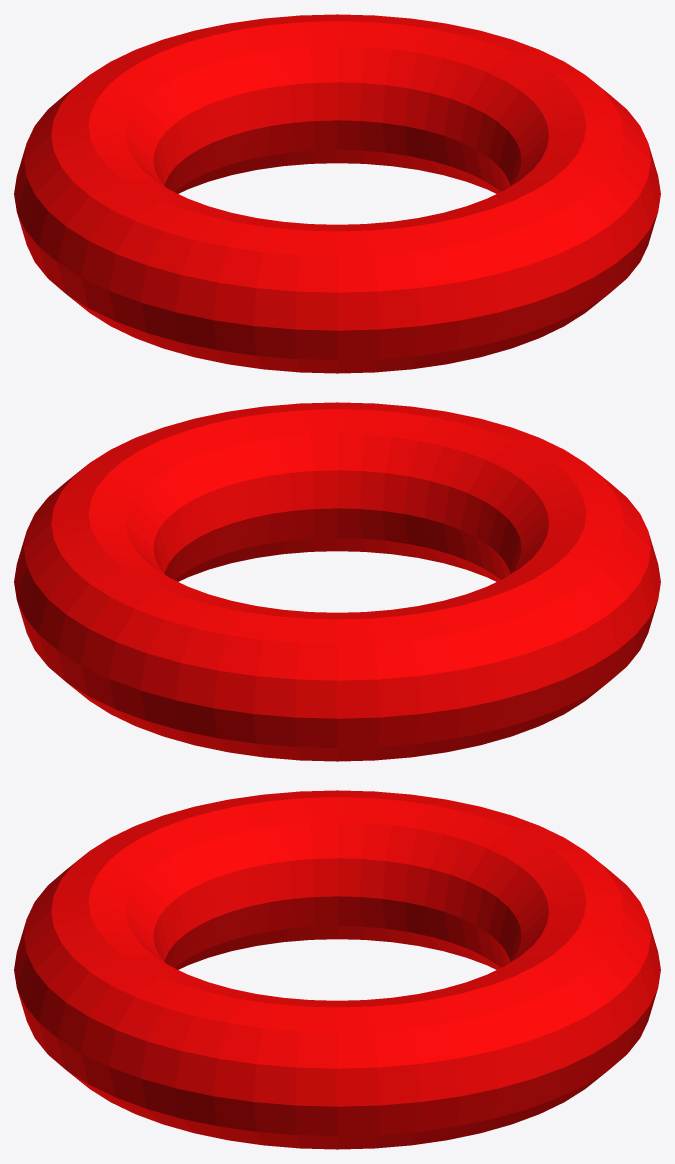
The picture shows the model from 3 angles, top to bottom: view 1: azimuth 30°, elevation 25°; view 2: azimuth 150°, elevation 25°; view 3: azimuth 270°, elevation 25°; orthographic projection.
Visible parts, largest first — view 1: torus; view 2: torus; view 3: torus.
Part boxes in pixels (left/top/right/bottom): torus: left=14, top=14, right=660, bottom=373; torus: left=14, top=402, right=660, bottom=761; torus: left=14, top=790, right=660, bottom=1149.
Size of the model in its own units: 2.6 by 0.6 by 2.6.
